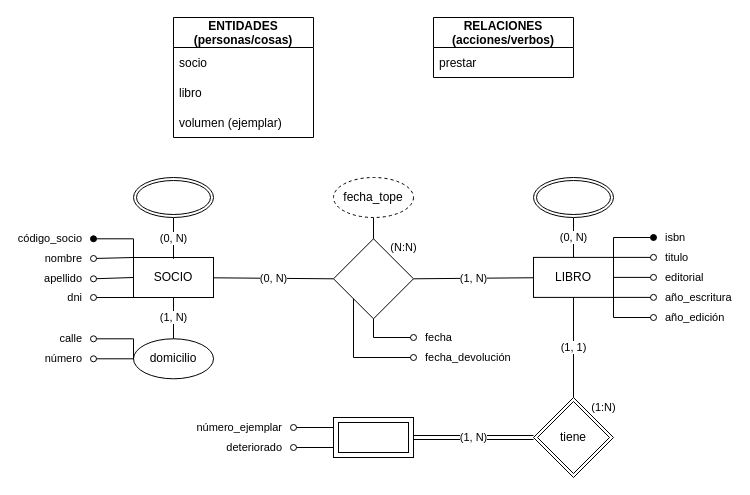
Image size: 750x495. Some labels were removed from this diagram. Here are the shapes that lost their labels. From the top down, the centre of each, then its label:
point 173,197: teléfono
point 573,197: autor
point 373,278: pide
point 373,437: VOLUMEN
